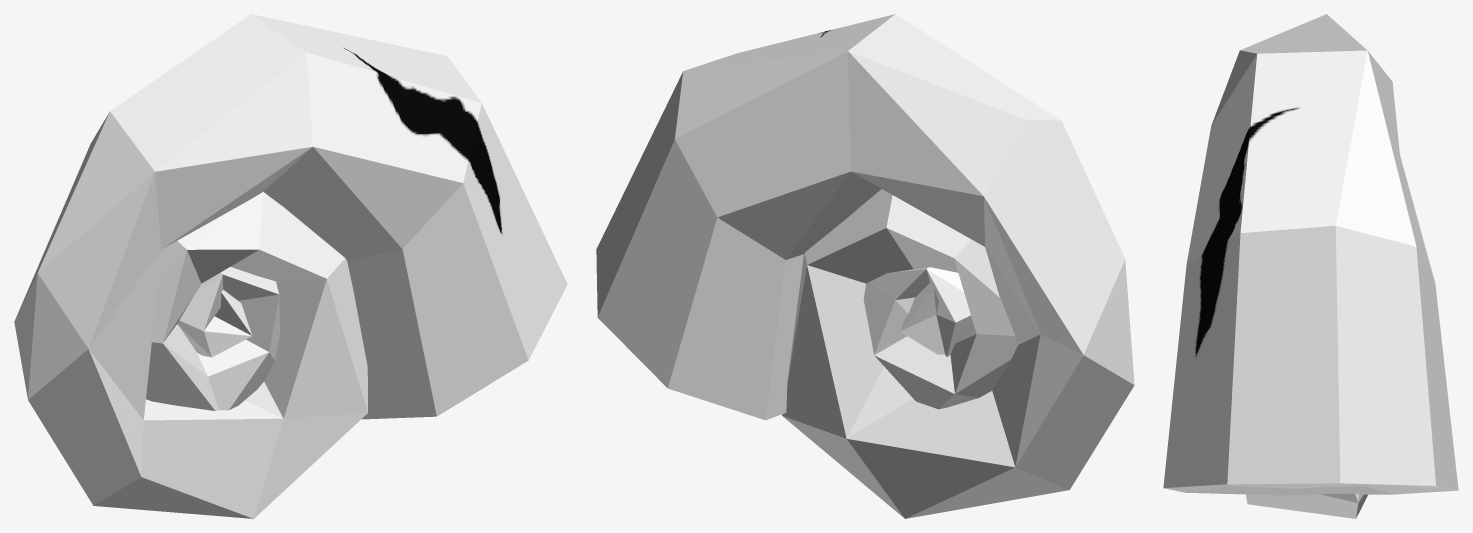
The model's file is snailShell.fbx.
3 views of the same model, side by side, from view 1: azimuth 30°, elevation 25°; view 2: azimuth 150°, elevation 25°; view 3: azimuth 270°, elevation 25° (orthographic). The views are drawn at different scales.
Visible parts, largest first — view 1: Cube; view 2: Cube; view 3: Cube.
Part boxes in pixels (<box>): Cube: <box>14,14,567,518</box>; Cube: <box>596,14,1134,518</box>; Cube: <box>1163,14,1458,518</box>.
Size of the model in its own units: 509 by 431 by 233.
1 material, 1 textured.
